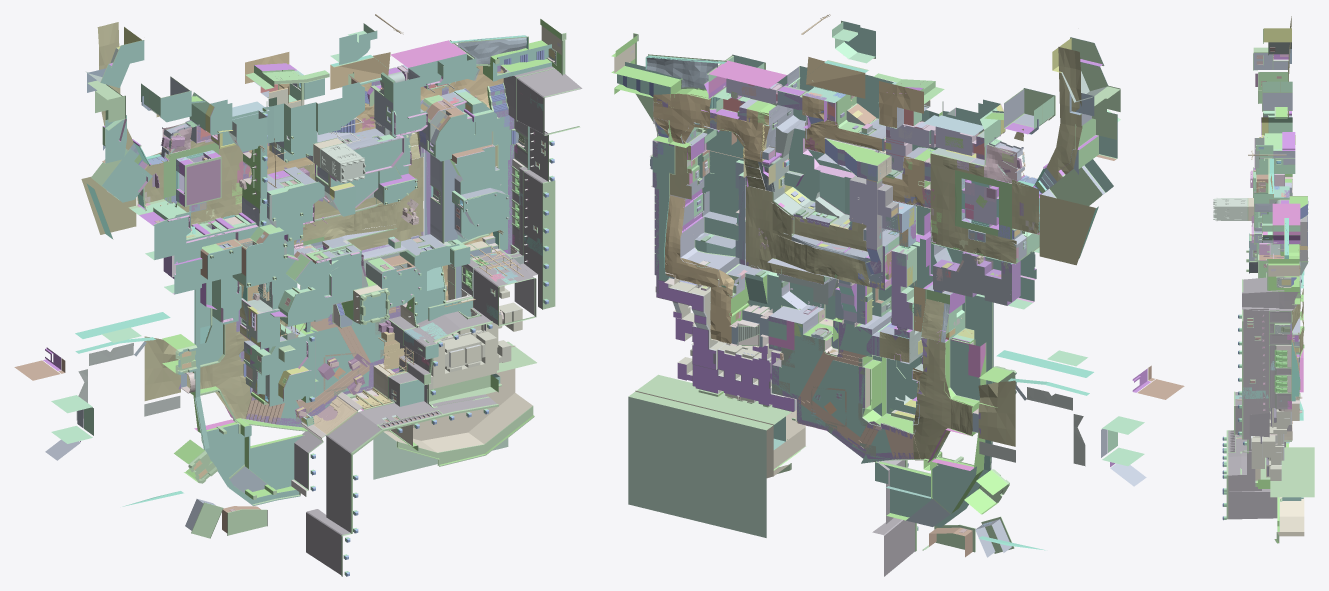
Rendered from de_mirage.glb.
3 views of the same model, side by side, from view 1: azimuth 30°, elevation 25°; view 2: azimuth 150°, elevation 25°; view 3: azimuth 270°, elevation 25° (orthographic). The views are drawn at different scales.
Visible parts, largest first — view 1: node000_world_lr0_agg129_3_milbeams003.001, meshset_0_wood_int_02, meshset_0_sanddecal01.001, meshset_0_street_overlay_parkingstripe, meshset_0_sanddecal01; view 2: node000_world_lr0_agg129_3_milbeams003.001, meshset_0_sanddecal01.001, meshset_0_milflr002, meshset_0_street_overlay_parkingstripe, meshset_0_tile_int_02, meshset_0_sanddecal02, meshset_0_blend_blacktopsand_01, meshset_0_toolssolidblocklight.013, meshset_0_sanddecal01; view 3: node000_world_lr0_agg129_3_milbeams003.001, meshset_0_toolssolidblocklight.013, meshset_0_toolssolidblocklight.012, meshset_0_decalstain015a.001, meshset_0_toolssolidblocklight.002.
Boxes of the visible parts, x1,y1,x2,y2 form: node000_world_lr0_agg129_3_milbeams003.001: (14,14,582,576); meshset_0_wood_int_02: (269,88,522,388); meshset_0_sanddecal01.001: (178,80,448,427); meshset_0_street_overlay_parkingstripe: (76,343,180,420); meshset_0_sanddecal01: (490,65,514,253); node000_world_lr0_agg129_3_milbeams003.001: (611,14,1184,576); meshset_0_sanddecal01.001: (710,93,1011,461); meshset_0_milflr002: (933,253,1011,305); meshset_0_street_overlay_parkingstripe: (979,387,1085,466); meshset_0_tile_int_02: (891,251,912,329); meshset_0_sanddecal02: (772,302,921,461); meshset_0_blend_blacktopsand_01: (984,145,1016,183); meshset_0_toolssolidblocklight.013: (708,60,767,93); meshset_0_sanddecal01: (652,99,674,293); node000_world_lr0_agg129_3_milbeams003.001: (1213,16,1314,543); meshset_0_toolssolidblocklight.013: (1272,204,1300,234); meshset_0_toolssolidblocklight.012: (1272,203,1299,224); meshset_0_decalstain015a.001: (1235,387,1268,398); meshset_0_toolssolidblocklight.002: (1299,349,1303,392).
Size of what is drawn, in the model's own units: 148 by 150 by 31.98.
